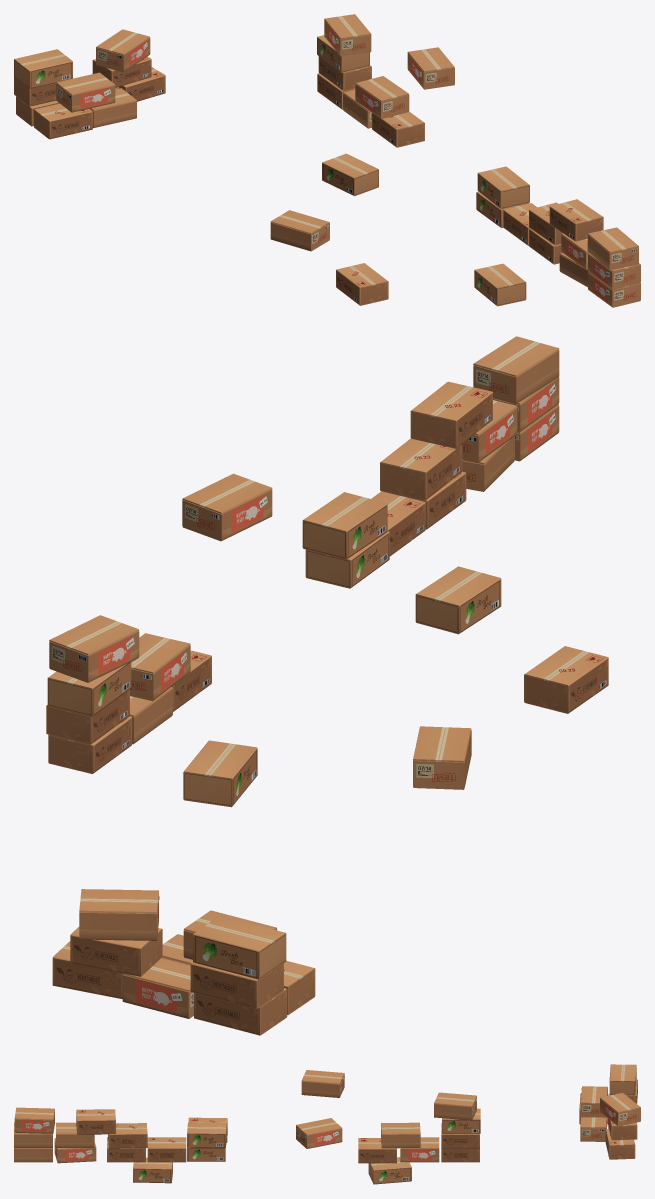
3 views of the same model, one above another, from view 1: azimuth 30°, elevation 25°; view 2: azimuth 150°, elevation 25°; view 3: azimuth 270°, elevation 25° (orthographic). The views are drawn at different scales.
Visible parts, largest first — view 1: CR_Box_003_Merged; view 2: CR_Box_003_Merged; view 3: CR_Box_003_Merged.
Part boxes in pixels (x1=…): CR_Box_003_Merged: x1=14, y1=14, x2=640, y2=307; CR_Box_003_Merged: x1=46, y1=336, x2=608, y2=1035; CR_Box_003_Merged: x1=14, y1=1064, x2=640, y2=1184.
Bounding box in the file's own units: 323 × 190 × 935.
